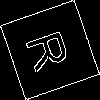R: (25, 24, 79, 74)
